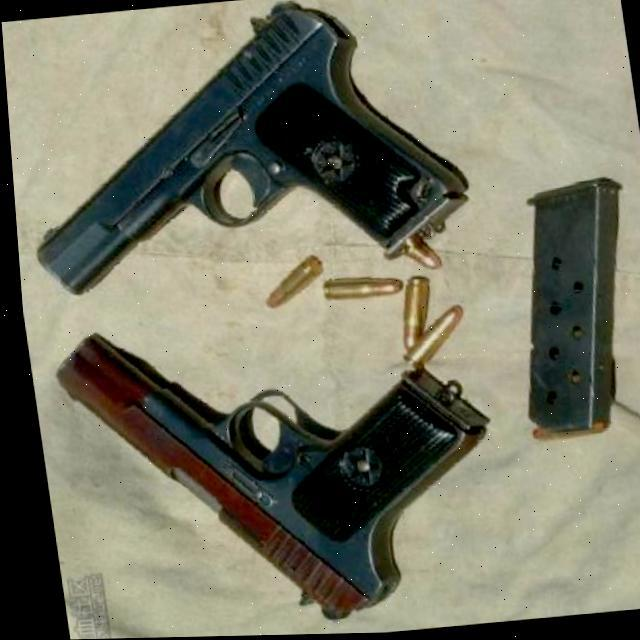gun: (35, 294, 508, 640), (0, 0, 486, 299)
